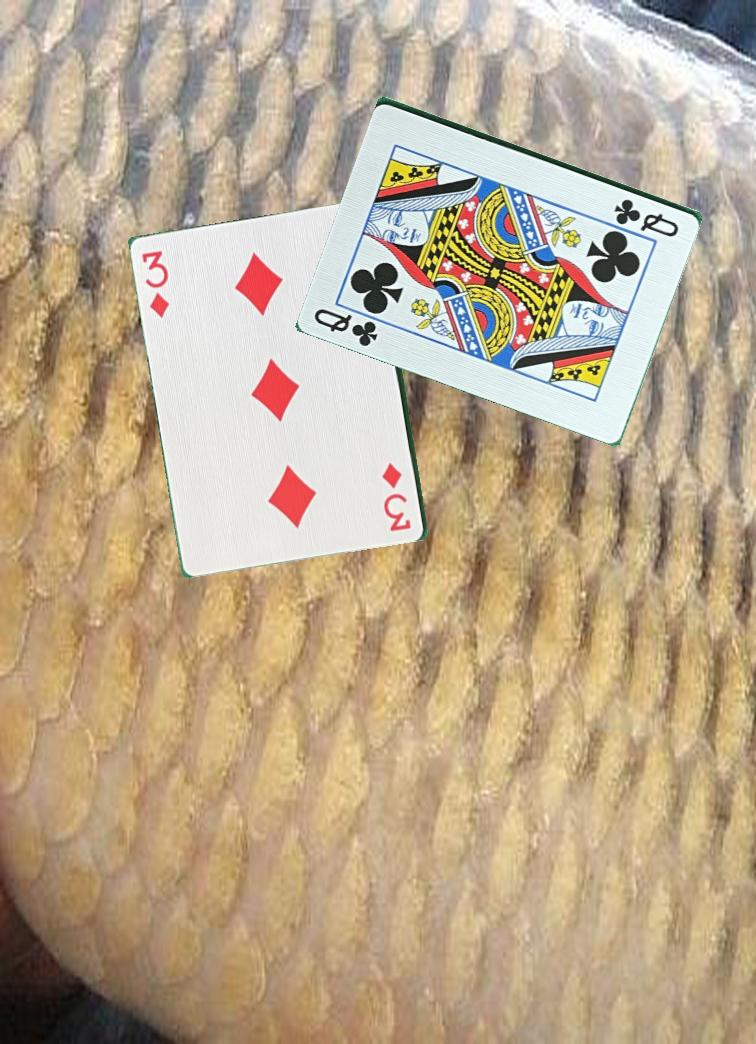3d: (138, 247, 173, 322), (381, 459, 414, 534)
qc: (610, 195, 683, 240), (311, 304, 382, 350)
